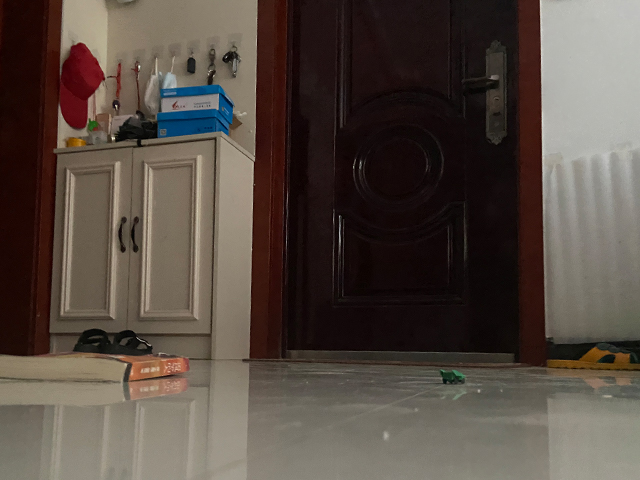book: (1, 350, 192, 385)
cabinet: (51, 129, 258, 363)
slippers: (544, 340, 640, 372), (72, 328, 155, 356)
